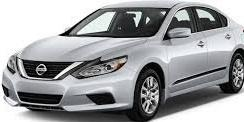Cars: (3, 3, 244, 121)
